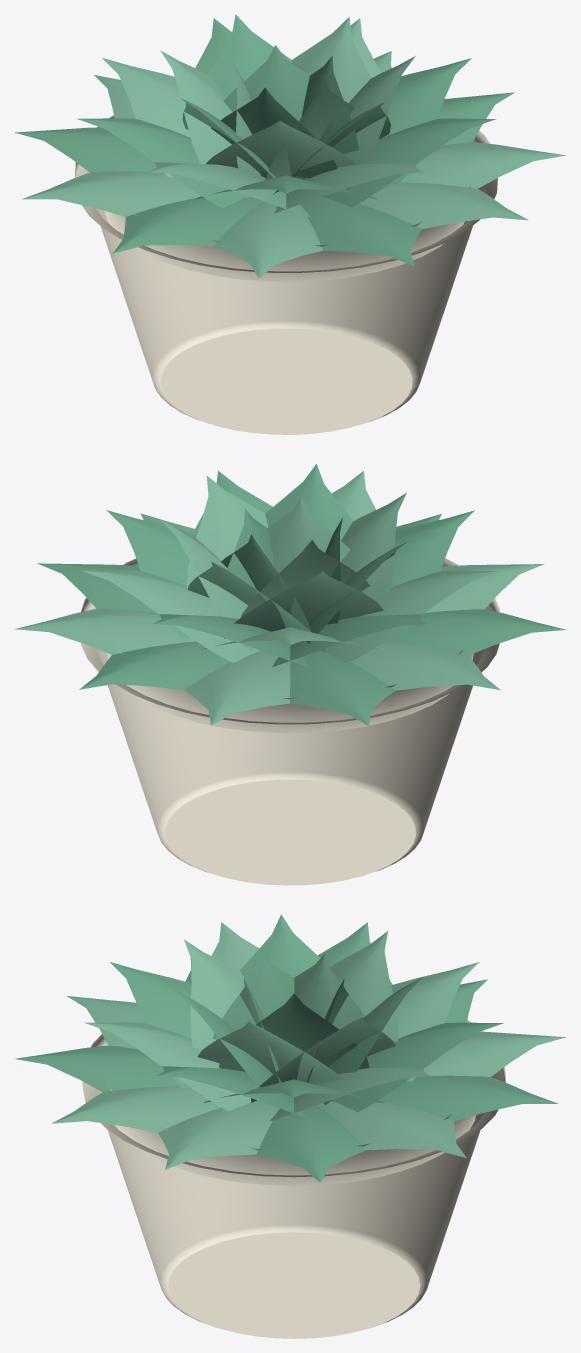
The model's file is succulent_cream_S.glb.
3 views of the same model, one above another, from view 1: azimuth 30°, elevation 25°; view 2: azimuth 150°, elevation 25°; view 3: azimuth 270°, elevation 25° (orthographic).
Parts seen in each view (by area): view 1: Echeveria Succulent (cream, S); view 2: Echeveria Succulent (cream, S); view 3: Echeveria Succulent (cream, S).
Part boxes in pixels (x1=…): Echeveria Succulent (cream, S): x1=15, y1=14, x2=566, y2=434; Echeveria Succulent (cream, S): x1=14, y1=464, x2=566, y2=885; Echeveria Succulent (cream, S): x1=14, y1=914, x2=565, y2=1338.
Bounding box in the file's own units: 0.1146 × 0.0721 × 0.1142.
